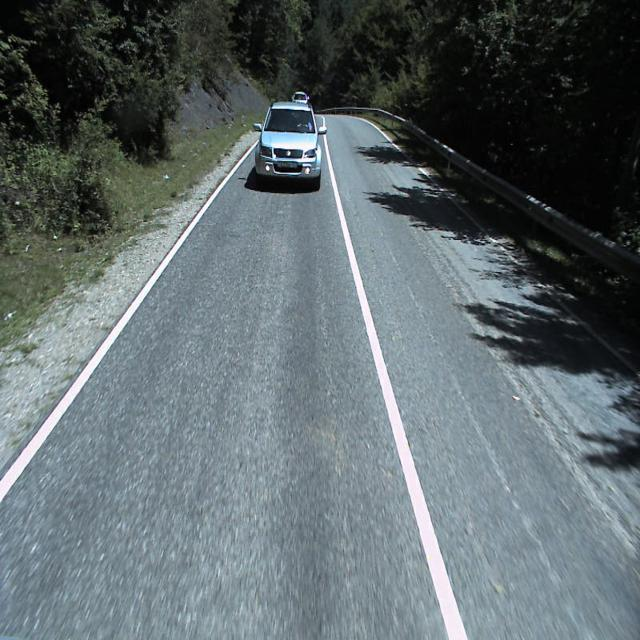road: (0, 114, 640, 639)
